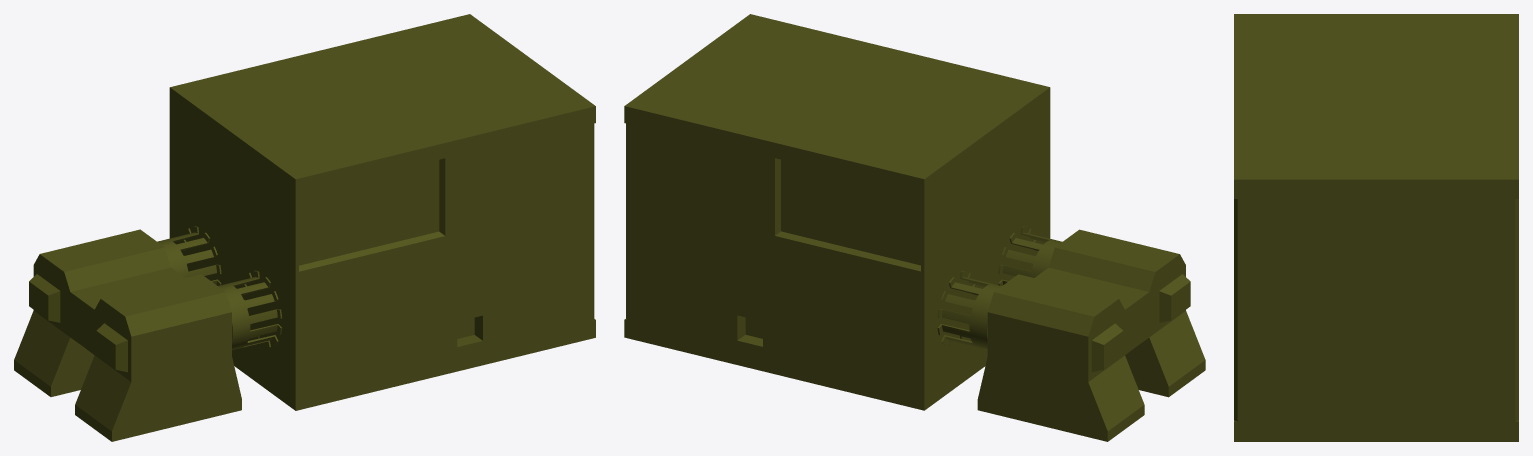
The model's file is Generator.fbx.
3 views of the same model, side by side, from view 1: azimuth 30°, elevation 25°; view 2: azimuth 150°, elevation 25°; view 3: azimuth 270°, elevation 25° (orthographic). The views are drawn at different scales.
Visible parts, largest first — view 1: mod_Generator, mod_exter, mod_rotor.001, mod_rotor.002; view 2: mod_Generator, mod_exter, mod_rotor.002, mod_rotor.001; view 3: mod_Generator.
Part boxes in pixels (x1=…): mod_Generator: x1=169, y1=14, x2=595, y2=410; mod_exter: x1=14, y1=229, x2=241, y2=441; mod_rotor.001: x1=218, y1=270, x2=282, y2=349; mod_rotor.002: x1=157, y1=226, x2=221, y2=285; mod_Generator: x1=624, y1=14, x2=1050, y2=410; mod_exter: x1=977, y1=229, x2=1205, y2=441; mod_rotor.002: x1=937, y1=271, x2=1001, y2=349; mod_rotor.001: x1=998, y1=226, x2=1062, y2=285; mod_Generator: x1=1234, y1=14, x2=1518, y2=441.
Size of the model in its own units: 319 by 150 by 148.
